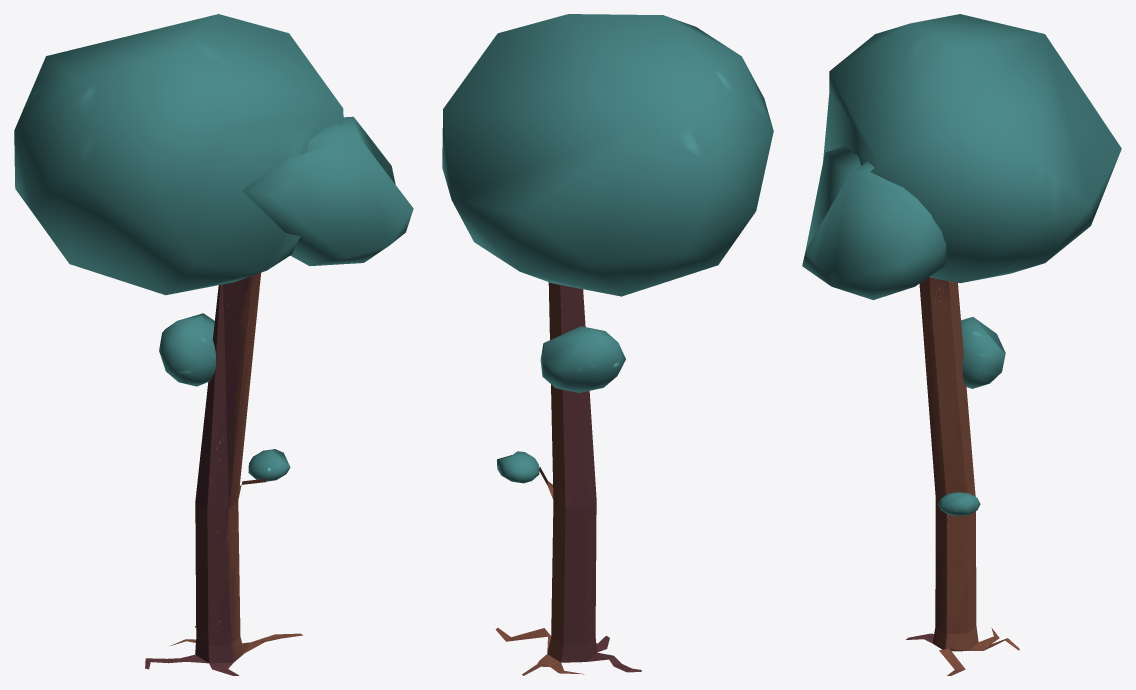
Rendered from tree3.glb.
3 views of the same model, side by side, from view 1: azimuth 30°, elevation 25°; view 2: azimuth 150°, elevation 25°; view 3: azimuth 270°, elevation 25° (orthographic). The views are drawn at different scales.
Visible parts, largest first — view 1: tree1; view 2: tree1; view 3: tree1.
Part boxes in pixels (x1,y1,x2,y2): tree1: (14, 14, 413, 675); tree1: (442, 14, 773, 675); tree1: (802, 14, 1121, 675).
Size of the model in its own units: 18.31 by 34.13 by 16.66.
1 material, 1 textured.
